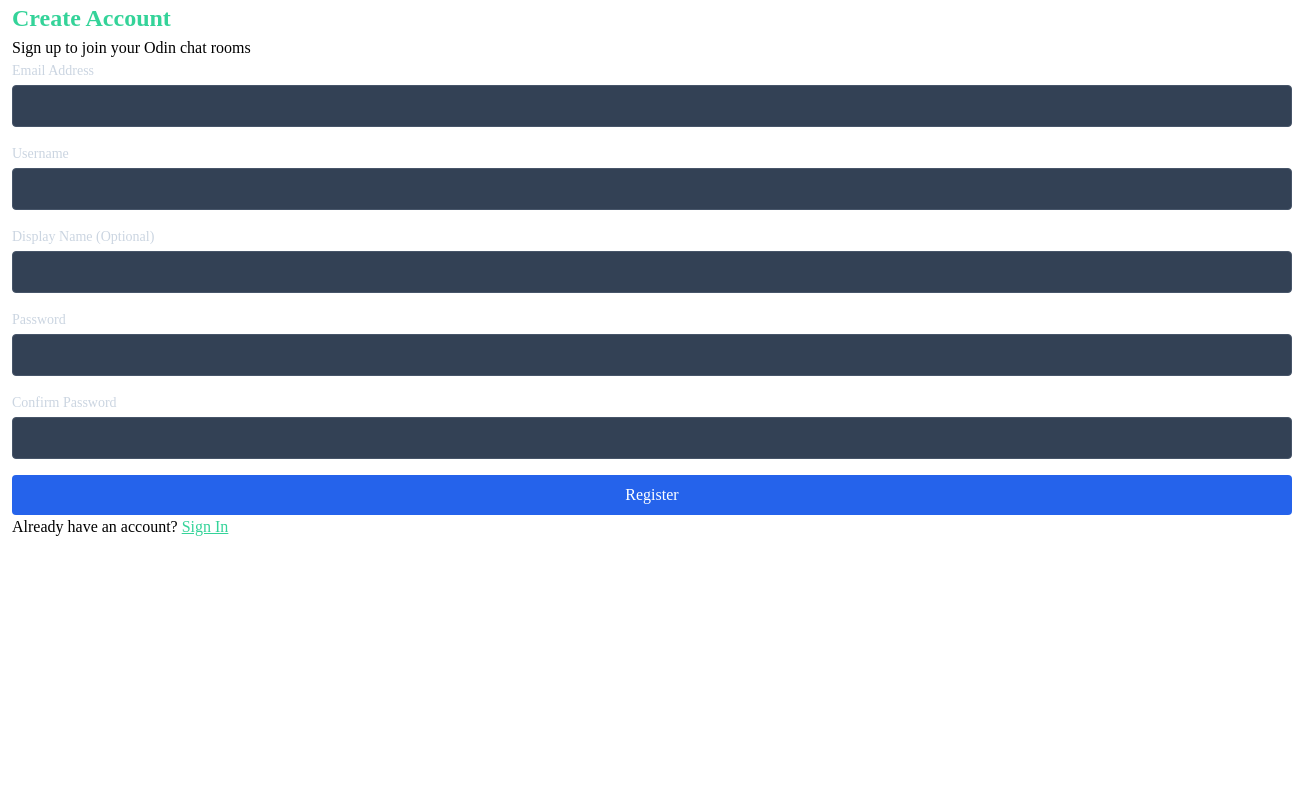
it: RegisterPage Component - Integration TDD Suite › should prevent network submission and throw alert banner if passfields do not match
In the field labelled "Email Address": (652, 106) [12,85,1292,127], type "validation@odin.com"
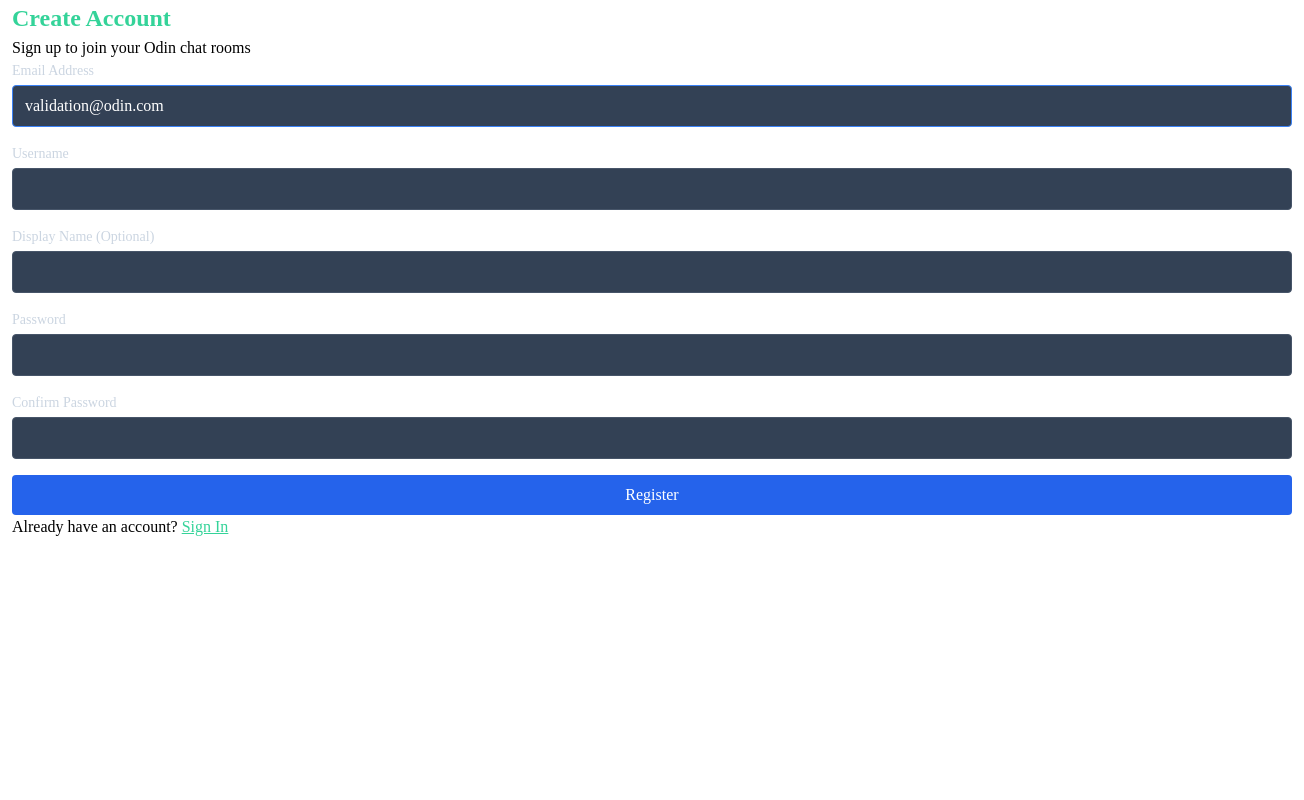
In the field labelled "Username": (652, 189) [12,168,1292,210], type "valid_test"
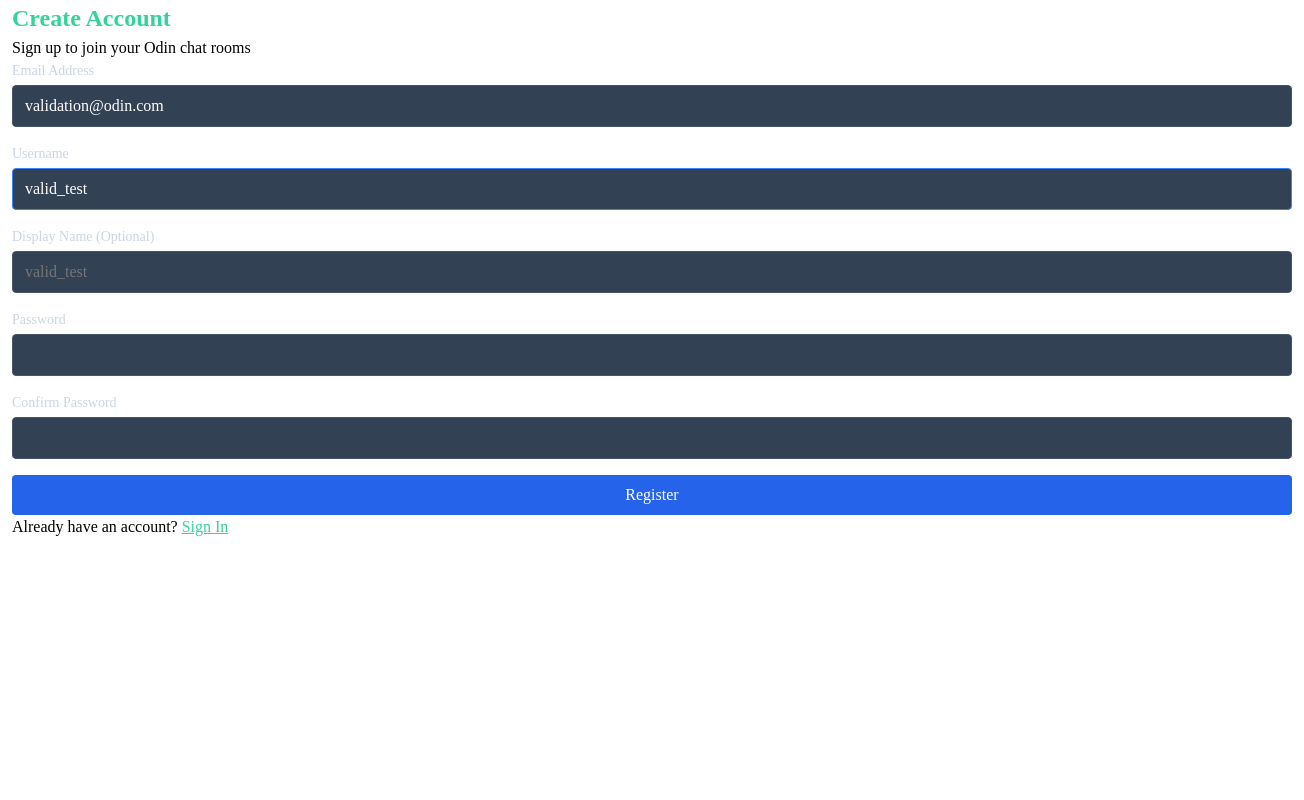
In the password field labelled "Password": (652, 355) [12,334,1292,376], type "passwordABC"
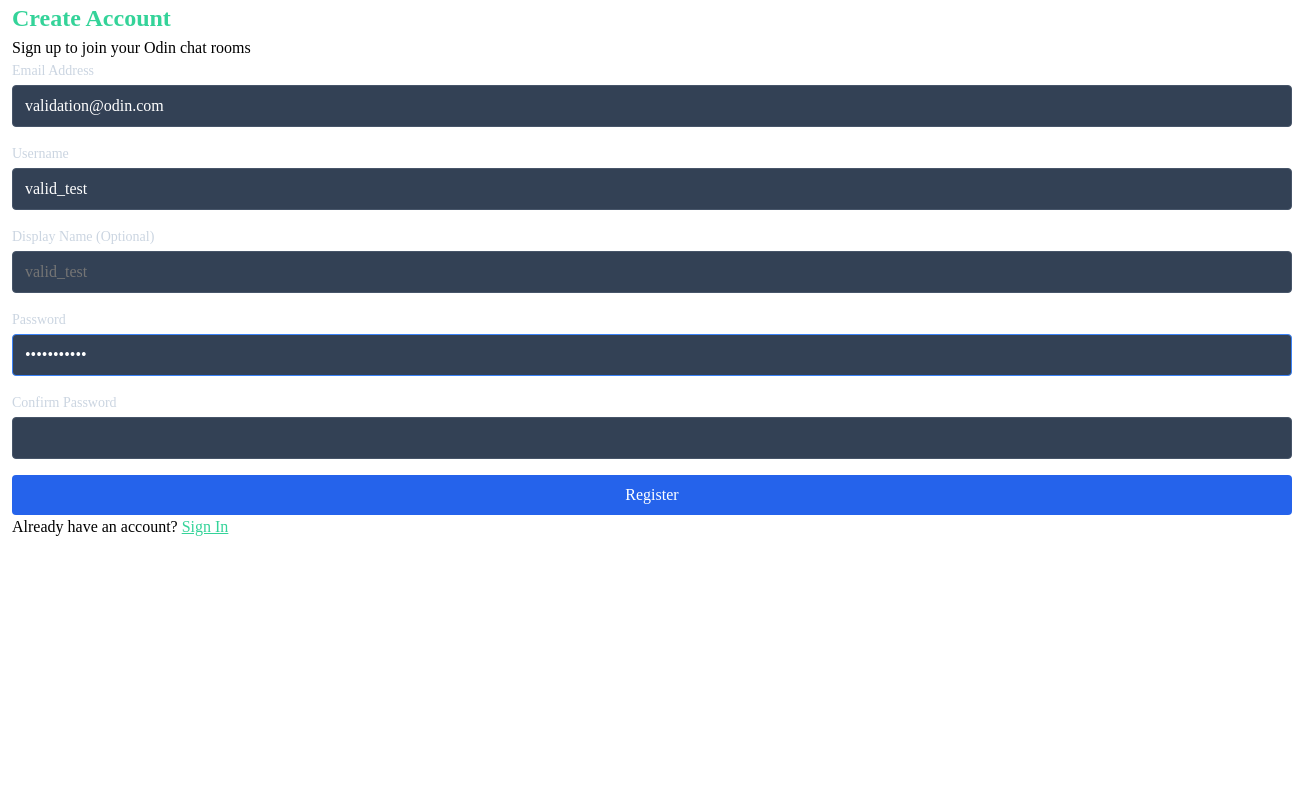
In the password field labelled "Confirm Password": (652, 438) [12,417,1292,459], type "passwordXYZ"
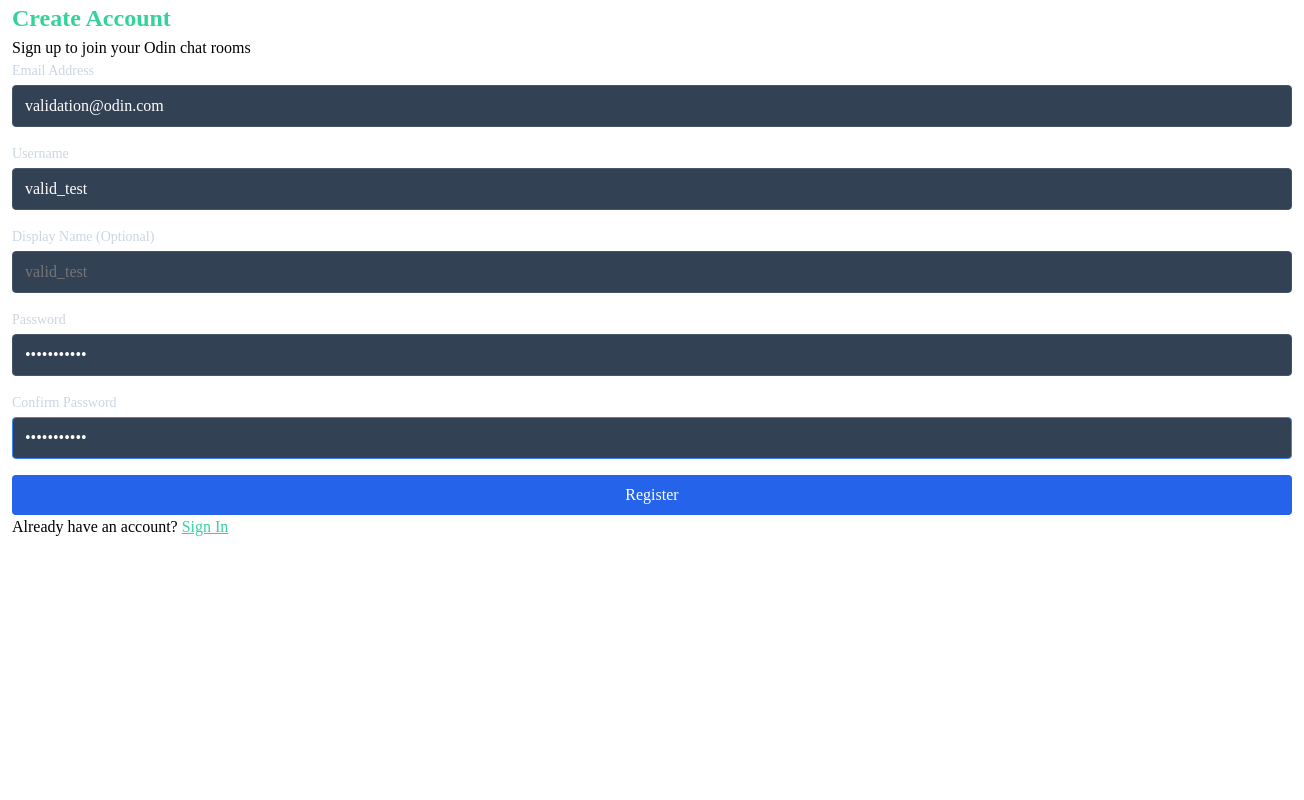
Click the button "Register": (652, 495) [12,475,1292,515]
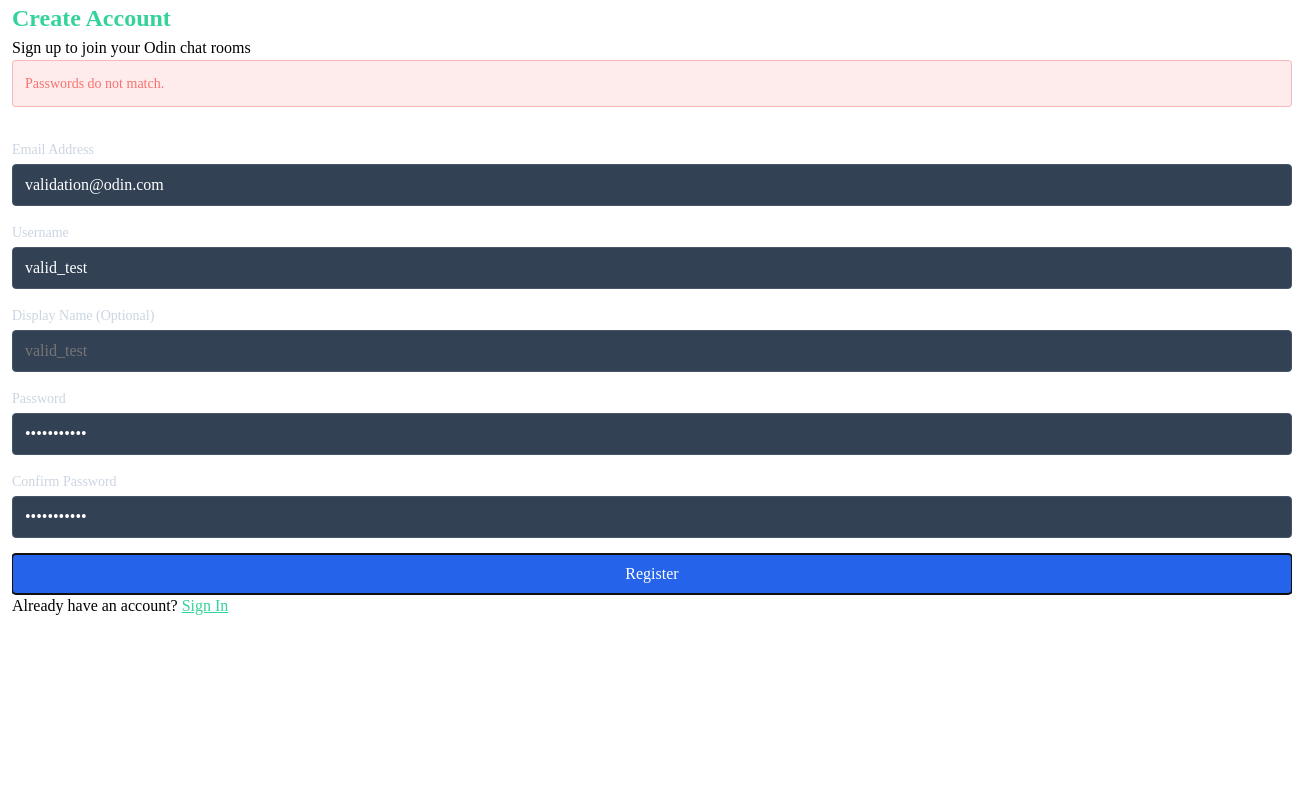
expect the message reads "Passwords do not match.": met, box [25,76,164,91]
